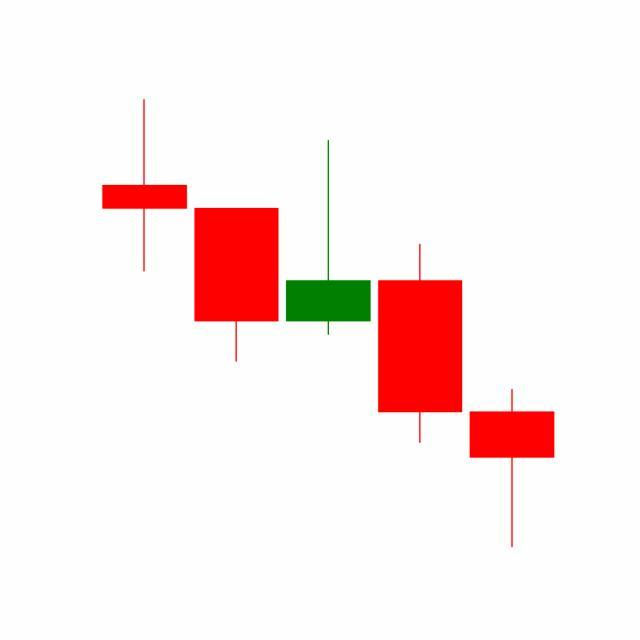Hammer: (466, 388, 559, 550)
